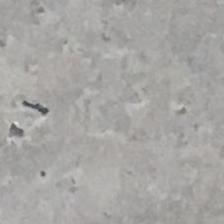Non_Crack: (53, 37, 224, 224)
